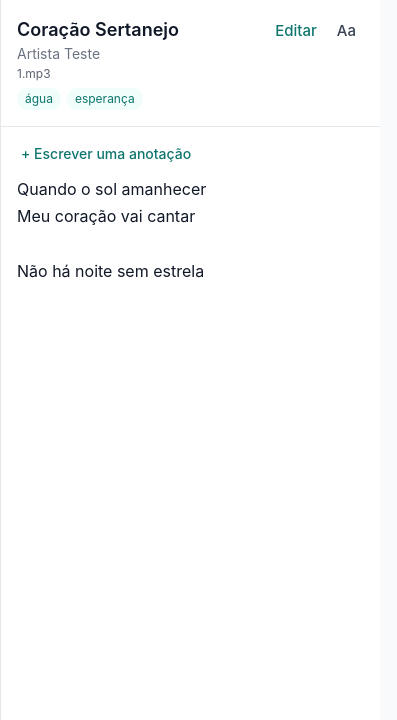
Test: LyricsPanel — modo de edição (V4 F10) › botão Editar entra no modo edição com os valores atuais preenchidos
The image size is (397, 720).
Expected: the text with test id "lyrics-body" is shown, x1=17 y1=179 x2=206 y2=281
Click the button "Editar".
click(296, 31)  # box x1=267 y1=16 x2=325 y2=46
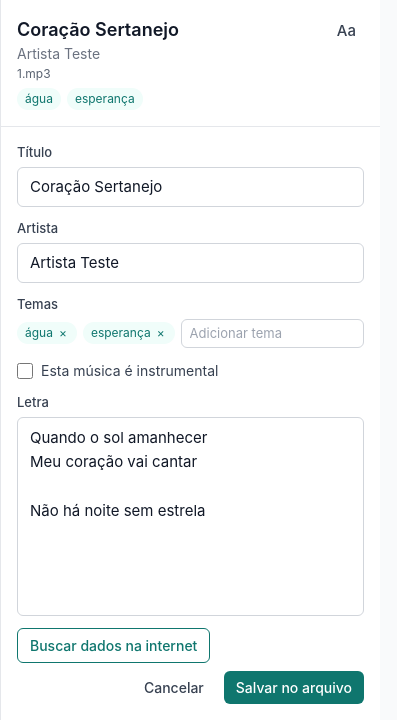
Expected: the field labelled "Título" holds "Coração Sertanejo", x1=17 y1=166 x2=364 y2=207
Expected: the field labelled "Artista" holds "Artista Teste", x1=17 y1=242 x2=364 y2=283
Expected: the button named "Remover tema água" is shown, x1=57 y1=324 x2=69 y2=342
